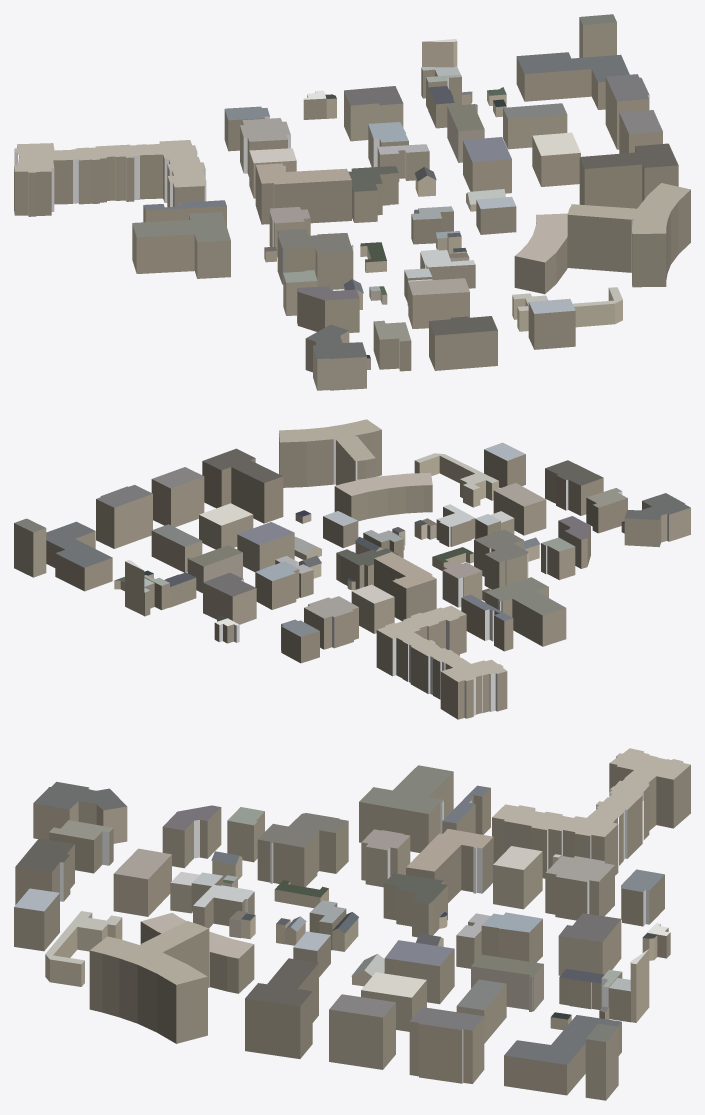
3 renders of one model, top to bottom at view 1: azimuth 30°, elevation 25°; view 2: azimuth 150°, elevation 25°; view 3: azimuth 270°, elevation 25°, orthographic. The views are drawn at different scales.
Parts seen in each view (by area): view 1: tuile; view 2: tuile; view 3: tuile.
Boxes of the visible parts, left/top/right/bottom form: tuile: left=14, top=14, right=690, bottom=390; tuile: left=14, top=419, right=690, bottom=719; tuile: left=14, top=748, right=690, bottom=1100.
Bounding box in the file's own units: 294 × 31.61 × 264.
